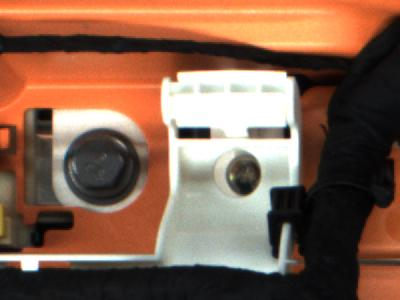nut_b: (53, 114, 157, 216)
